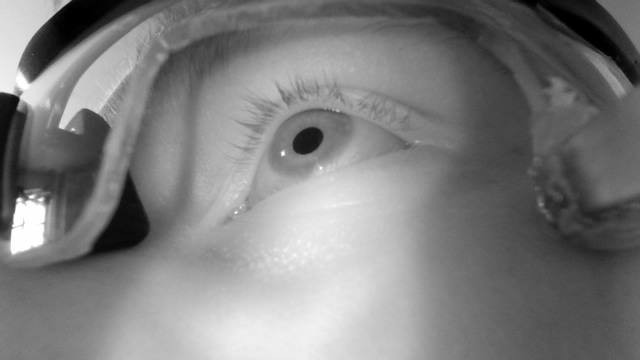pupil: (292, 126, 324, 155)
